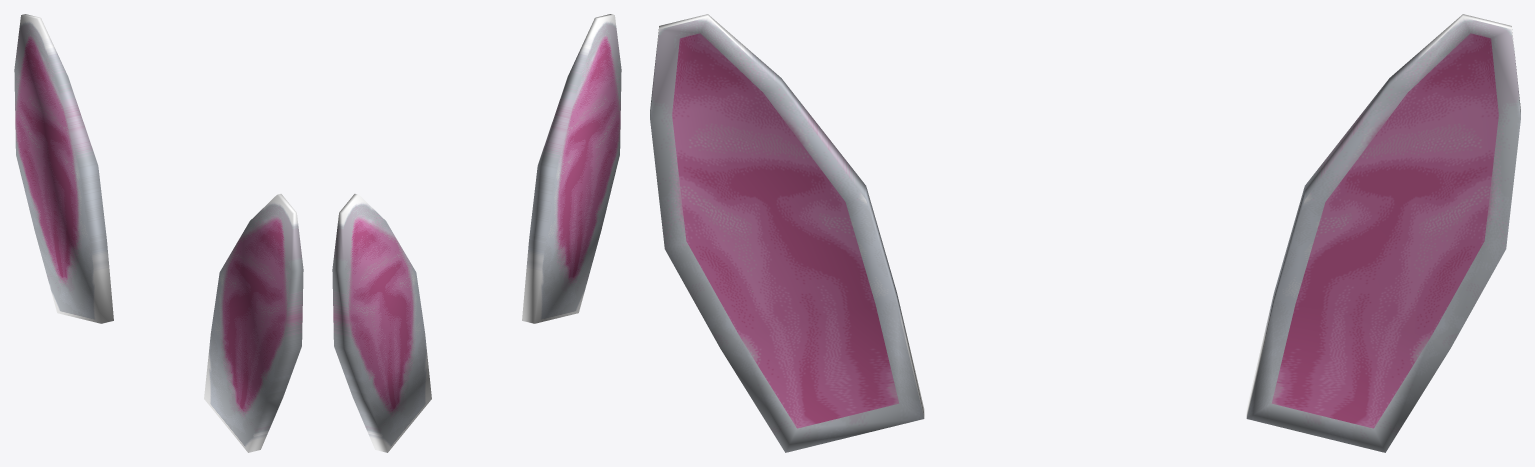
Rendered from Bunny.glb.
3 views of the same model, side by side, from view 1: azimuth 30°, elevation 25°; view 2: azimuth 150°, elevation 25°; view 3: azimuth 270°, elevation 25° (orthographic). The views are drawn at different scales.
Visible parts, largest first — view 1: Bunny; view 2: Bunny; view 3: Bunny.
Boxes of the visible parts, <box> form: Bunny: <box>14,14,303,452</box>; Bunny: <box>332,14,621,452</box>; Bunny: <box>650,14,1520,452</box>.
Size of the model in its own units: 0.083 by 1.19 by 2.18.
Materials: 1 (1 with a texture image).
